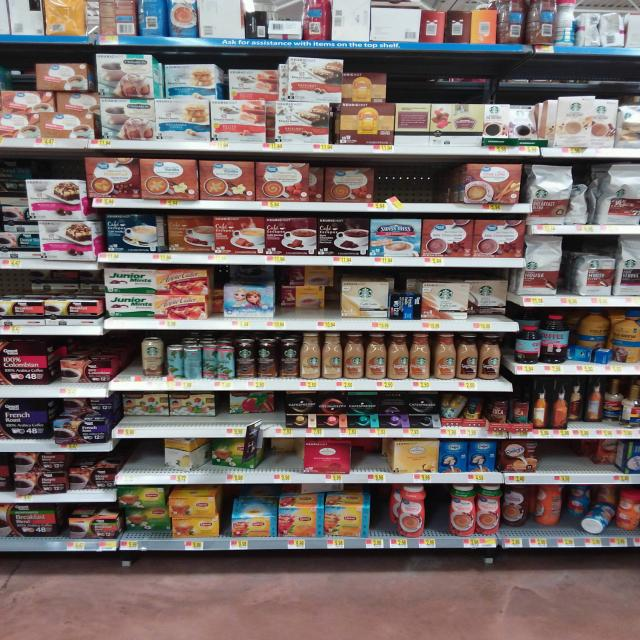unorganised: (329, 1, 552, 43), (501, 485, 640, 534), (33, 59, 99, 135), (276, 57, 344, 104), (122, 393, 218, 424), (25, 176, 86, 220), (271, 103, 333, 145), (116, 487, 167, 537), (279, 265, 334, 311), (310, 164, 374, 203), (571, 386, 623, 431), (218, 282, 276, 320), (163, 212, 214, 254), (553, 96, 593, 147), (163, 62, 219, 98), (53, 413, 111, 447), (300, 439, 354, 475), (225, 66, 278, 99), (209, 439, 257, 472), (19, 278, 104, 296), (467, 281, 507, 318), (344, 71, 387, 103), (160, 437, 203, 469), (71, 466, 117, 492), (228, 392, 275, 417), (594, 97, 616, 150), (568, 340, 610, 367), (570, 184, 596, 226), (167, 497, 214, 520), (140, 337, 163, 381), (305, 1, 330, 41), (389, 291, 421, 320), (519, 323, 541, 365), (141, 1, 167, 35), (440, 389, 467, 419), (116, 1, 137, 36), (295, 483, 347, 496), (598, 439, 620, 468), (271, 19, 302, 39), (183, 345, 201, 378)
